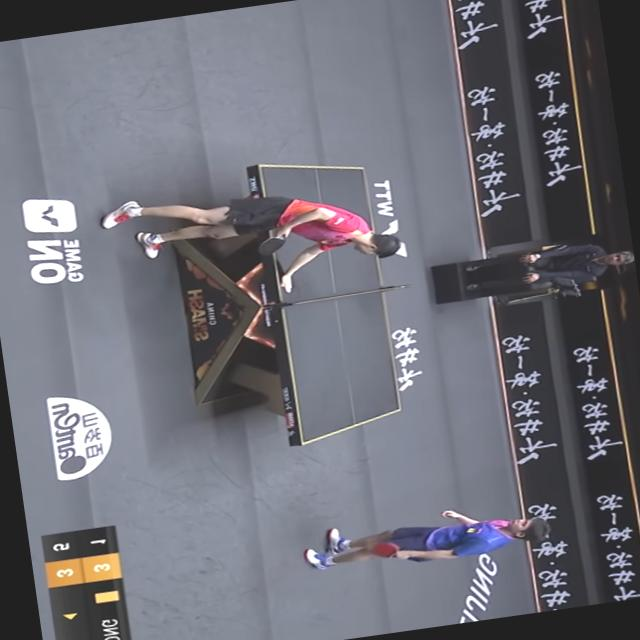TT Net: (278, 282, 413, 310)
TT Racket: (251, 228, 288, 266), (367, 534, 406, 564)
TT Table: (258, 149, 404, 443)
